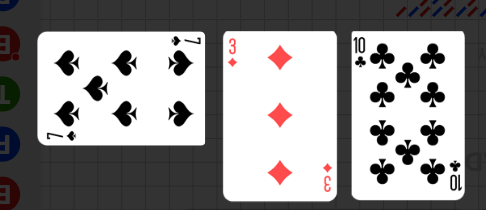10C: (447, 157, 462, 192)
3D: (353, 35, 369, 70)
7S: (45, 129, 79, 142)
